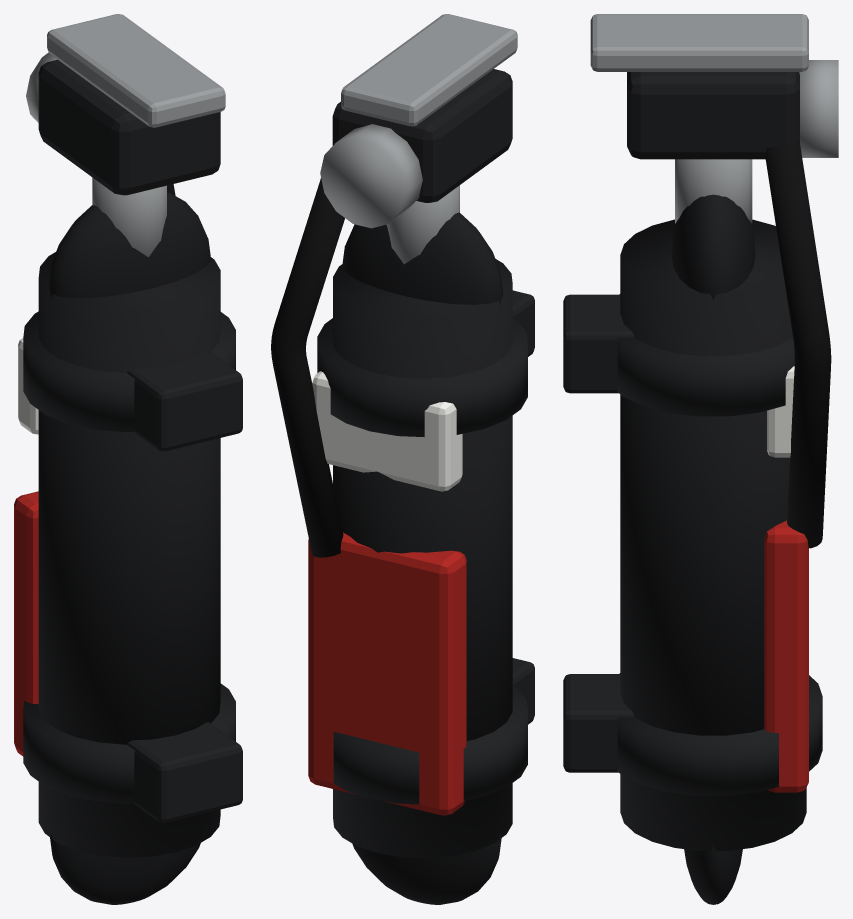
Rendered from extinguisher_left.glb.
3 renders of one model, left to right at view 1: azimuth 30°, elevation 25°; view 2: azimuth 150°, elevation 25°; view 3: azimuth 270°, elevation 25°, orthographic. The views are drawn at different scales.
Parts seen in each view (by area): view 1: bottle.002, head.001, lever.001, domeTop.001, bandFoot1392.0, bandFoot1208.0, band1392.0, band1208.0, label.003, domeBase.001, neck.001, labelText.001 (+1 smaller); view 2: bottle.002, label.003, hose.001, band1392.0, lever.001, head.001, domeTop.001, band1208.0, labelText.001, gauge.001, domeBase.001, neck.001 (+2 smaller); view 3: bottle.002, head.001, hose.001, lever.001, band1208.0, label.003, band1392.0, domeTop.001, bandFoot1392.0, bandFoot1208.0, gauge.001, neck.001 (+2 smaller).
Boxes of the visible parts, x1,y1,x2,y2 form: bottle.002: (38,252,220,857); head.001: (38,59,220,195); lever.001: (47,14,225,127); domeTop.001: (48,192,211,298); bandFoot1392.0: (127,351,242,451); bandFoot1208.0: (127,722,242,822); band1392.0: (23,311,235,432); band1208.0: (23,683,235,803); label.003: (14,491,38,756); domeBase.001: (50,833,200,904); neck.001: (92,177,166,256); labelText.001: (18,338,38,434); bottle.002: (333,259,512,858); label.003: (308,532,466,815); hose.001: (271,178,344,557); band1392.0: (317,318,527,437); lever.001: (341,14,517,126); head.001: (332,69,512,202); domeTop.001: (342,212,503,305); band1208.0: (333,685,527,804); labelText.001: (312,371,462,491); gauge.001: (320,124,422,228); domeBase.001: (352,833,501,904); neck.001: (386,185,459,264); bottle.002: (620,219,806,850); head.001: (627,72,799,159); hose.001: (765,141,831,548); lever.001: (590,14,808,71); band1208.0: (617,673,822,795); label.003: (764,520,808,792); band1392.0: (617,294,794,416); domeTop.001: (671,194,755,300); bandFoot1392.0: (563,294,634,393); bandFoot1208.0: (563,674,634,772); gauge.001: (799,60,838,157); neck.001: (675,159,752,223).
Bounding box in the file's own units: 0.1006 × 0.42 × 0.121.
